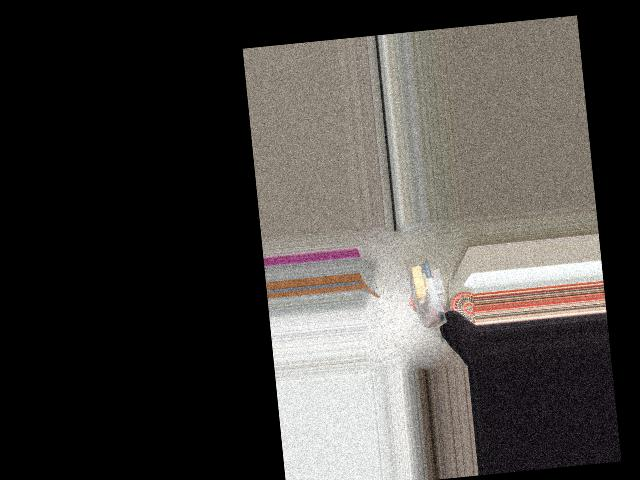cheese: (407, 260, 450, 332)
